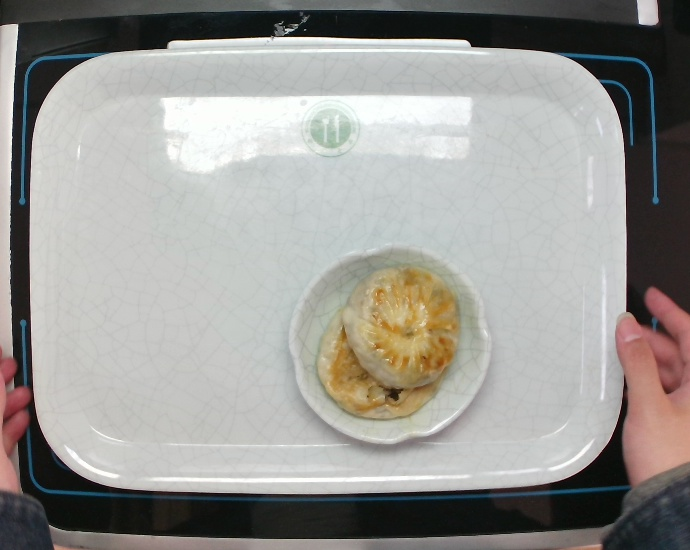JYsf-Ao_Yuan_Wan: (285, 239, 494, 447)
